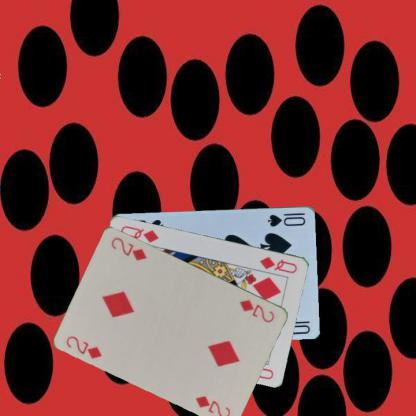10s: (265, 209, 307, 228)
2d: (64, 333, 104, 360), (238, 297, 276, 324)
Qd: (257, 254, 299, 274)
